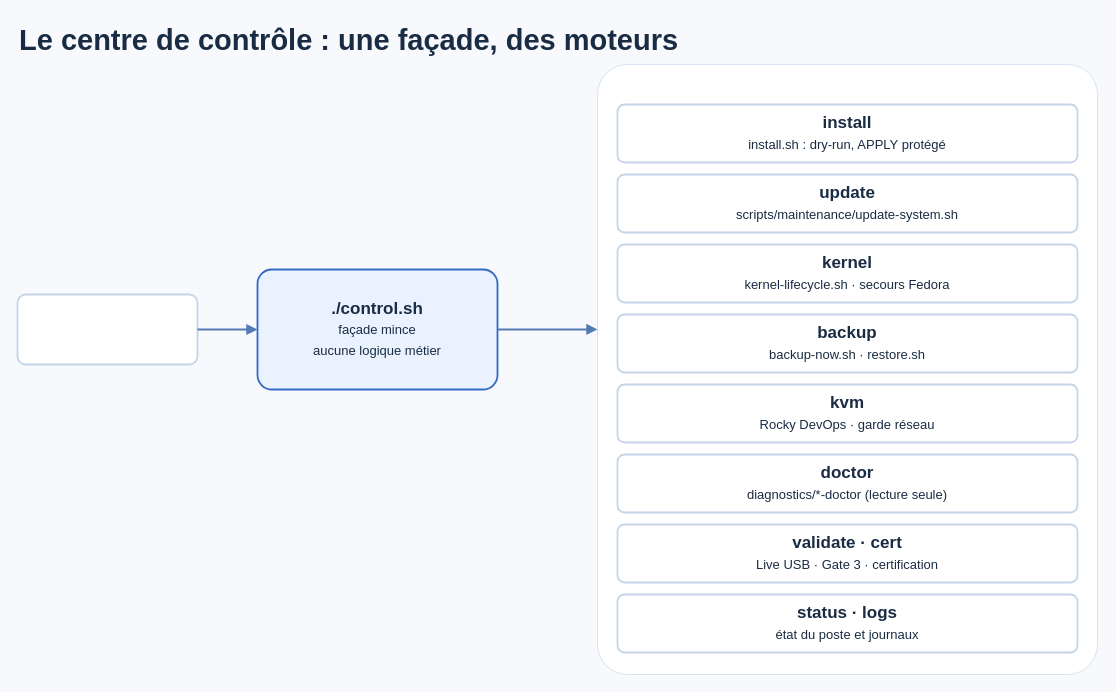
Some shapes in this 1116 by 692 pixel diagram are drawn without their labels. Here are the shapes that lost their labels. From the top down, the box of each, then its label:
(16, 293, 198, 365): Opérateur
(596, 64, 1098, 674): Domaines et moteurs appelés
